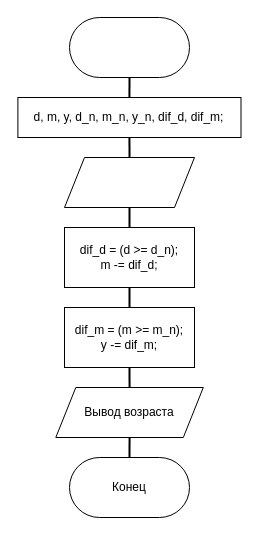
This 259x535 diagram has some shape labels left out. The shapes that lost their labels are listed below. From the top down, each one's box as (x1, y1, x2, y2) in pixels, then its label:
(68, 16, 190, 78): Начало
(64, 156, 194, 208): Ввод дат
